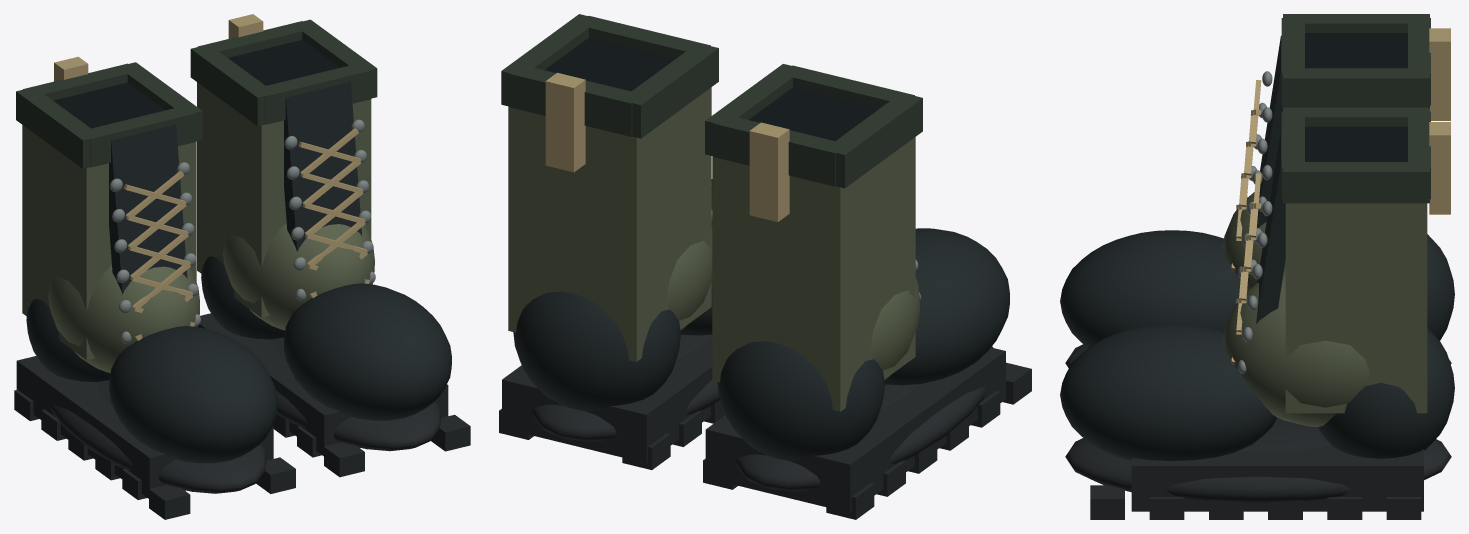
Rendered from FSA_ARMOR_Boots_001_Military.glb.
3 views of the same model, side by side, from view 1: azimuth 30°, elevation 25°; view 2: azimuth 150°, elevation 25°; view 3: azimuth 270°, elevation 25° (orthographic). The views are drawn at different scales.
Visible parts, largest first — view 1: Toe_0, Toe_1, Shaft_0, Shaft_1, Ankle_1, Ankle_0, Tongue_0, Tongue_1, SoleCore_0, Outsole_0, SoleCore_1, Outsole_1 (+18 smaller); view 2: Shaft_0, Shaft_1, Heel_1, Heel_0, SoleCore_0, Toe_0, SoleCore_1, Outsole_0, CuffSide_1_-1, CuffSide_0_-1, CuffEnd_1_-1, CuffEnd_0_-1 (+18 smaller); view 3: Shaft_1, Toe_1, Toe_0, SoleCore_1, Ankle_1, Outsole_1, Heel_1, CuffSide_1_1, CuffSide_0_1, Opening_0, Opening_1, Tongue_1 (+17 smaller).
Part boxes in pixels (<box>): Toe_0: <box>109,326,277,463</box>; Toe_1: <box>284,283,451,420</box>; Shaft_0: <box>22,125,196,360</box>; Shaft_1: <box>197,82,371,317</box>; Ankle_1: <box>223,223,374,330</box>; Ankle_0: <box>48,265,199,372</box>; Tongue_0: <box>109,124,187,294</box>; Tongue_1: <box>284,82,362,251</box>; SoleCore_0: <box>16,356,273,498</box>; Outsole_0: <box>49,380,266,493</box>; SoleCore_1: <box>198,313,448,456</box>; Outsole_1: <box>271,337,440,451</box>; Shaft_0: <box>712,137,915,411</box>; Shaft_1: <box>508,87,711,361</box>; Heel_1: <box>513,291,680,411</box>; Heel_0: <box>717,341,884,460</box>; SoleCore_0: <box>705,347,1005,512</box>; Toe_0: <box>884,228,1009,385</box>; SoleCore_1: <box>502,337,712,463</box>; Outsole_0: <box>735,346,993,491</box>; CuffSide_1_-1: <box>620,43,718,138</box>; CuffSide_0_-1: <box>824,93,922,188</box>; CuffEnd_1_-1: <box>509,65,642,136</box>; CuffEnd_0_-1: <box>713,114,846,186</box>; Shaft_1: <box>1285,203,1427,413</box>; Toe_1: <box>1060,324,1276,460</box>; Toe_0: <box>1060,230,1247,347</box>; SoleCore_1: <box>1131,446,1423,511</box>; Ankle_1: <box>1223,268,1370,427</box>; Outsole_1: <box>1065,417,1451,503</box>; Heel_1: <box>1317,328,1454,458</box>; CuffSide_1_1: <box>1283,162,1429,203</box>; CuffSide_0_1: <box>1283,68,1429,107</box>; Opening_0: <box>1305,33,1407,68</box>; Opening_1: <box>1305,126,1407,161</box>; Tongue_1: <box>1256,129,1285,323</box>.
Size of the model in its own units: 0.312 by 0.305 by 0.3065.
